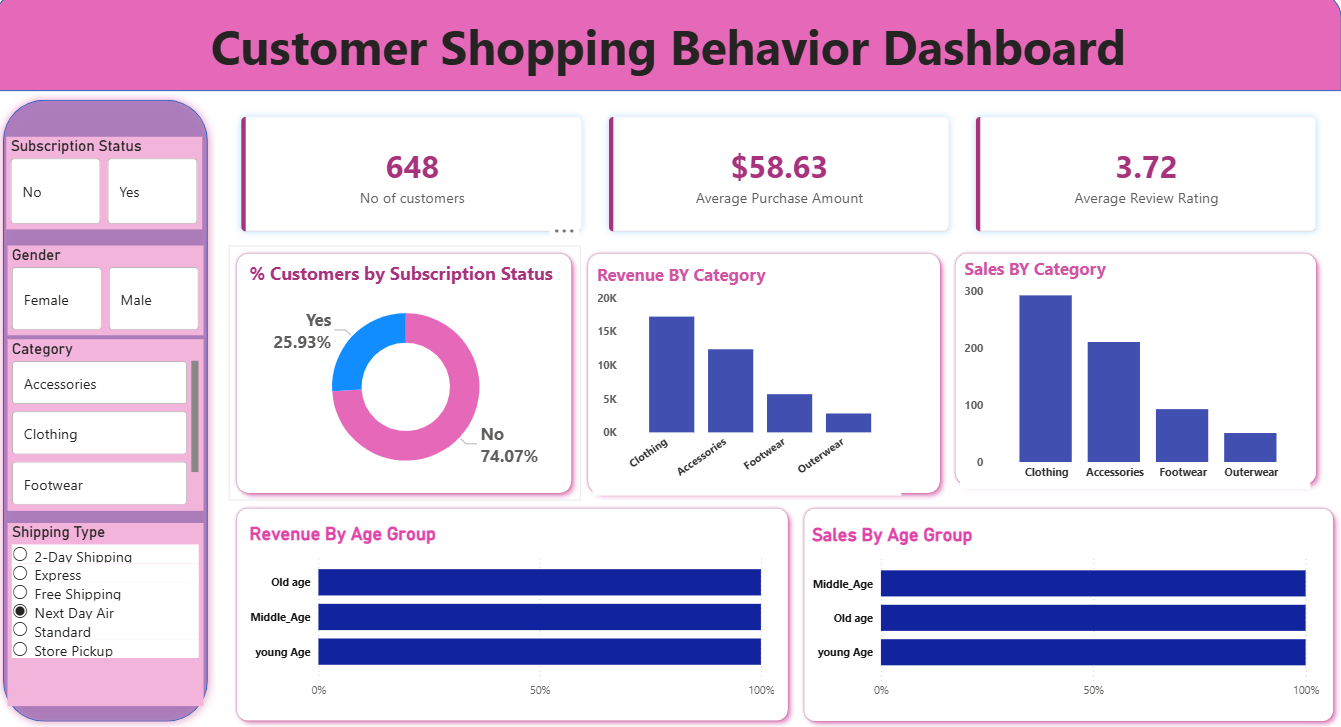

What the dashboard file says about the page in this screenshot:
{"tool":"powerbi","page":{"name":"Page 1","canvas":[1500,820],"ordinal":0},"visuals":[{"type":"cardVisual","fields":{"Data":["Sheet1.No of customers","Sheet1.Average Purchase Amount","Sheet1.Average Review Rating"]},"box":[246,109.3,1254.3,184.9],"z":0},{"type":"shape","box":[0,0,1500.3,109.3],"z":1000},{"type":"textbox","box":[0,17.7,1500.3,91.7],"z":2000},{"type":"shape","box":[260.5,281.4,390.8,284.6],"z":3000},{"type":"donutChart","title":"% Customers by Subscription Status","fields":{"Category":["Sheet1.Subscription Status"],"Y":["CountNonNull(Sheet1.Customer ID)"]},"box":[278.2,297.5,358.6,255.7],"z":4000},{"type":"shape","box":[651.3,281.4,410.1,284.6],"z":5000},{"type":"shape","box":[1061.3,281.4,419.7,275],"z":6000},{"type":"lineClusteredColumnComboChart","title":"Revenue BY Category","fields":{"Category":["Sheet1.Category"],"Y":["Sum(Sheet1.Purchase Amount (USD))"]},"box":[665.7,300.7,344.1,258.9],"z":7000},{"type":"lineClusteredColumnComboChart","title":"Sales BY Category","fields":{"Category":["Sheet1.Category"],"Y":["CountNonNull(Sheet1.Customer ID)"]},"box":[1075.8,294.3,390.8,258.9],"z":8000},{"type":"shape","box":[0,109.3,246,710.8],"z":9000},{"type":"advancedSlicerVisual","fields":{"Values":["Sheet1.Subscription Status"]},"box":[12.5,160.2,218.6,103.1],"z":9001},{"type":"advancedSlicerVisual","fields":{"Values":["Sheet1.Gender"]},"box":[14.5,281.4,218.7,99.7],"z":9002},{"type":"advancedSlicerVisual","fields":{"Values":["Sheet1.Category"]},"box":[14.5,385.9,218.7,191.4],"z":9003},{"type":"listSlicer","fields":{"Values":["Sheet1.Shipping Type"]},"box":[14.5,590.2,218.7,204.2],"z":9004},{"type":"shape","box":[260.5,566,632,254.1],"z":9006},{"type":"hundredPercentStackedBarChart","title":"Revenue By Age Group","fields":{"Y":["Sum(Sheet1.Purchase Amount (USD))"],"Category":["Sheet1.Age range"]},"box":[278.2,590.2,595,204.2],"z":9007},{"type":"shape","box":[892.7,565.4,607.2,254.9],"z":9009},{"type":"hundredPercentStackedBarChart","title":"Sales By Age Group","fields":{"Y":["CountNonNull(Sheet1.Customer ID)"],"Category":["Sheet1.Age range"]},"box":[905.2,591.9,575.2,203.3],"z":9010}]}

Visuals, with their boxes in screenshot pixels (x1, y1, x2, y2), scaled from the page's 1500x820 canvas onto the 1341x727 screenshot:
cardVisual - Sheet1.No of customers x Sheet1.Average Purchase Amount: {"x1": 220, "y1": 97, "x2": 1340, "y2": 261}
shape: {"x1": 0, "y1": 0, "x2": 1340, "y2": 97}
textbox: {"x1": 0, "y1": 16, "x2": 1340, "y2": 97}
shape: {"x1": 233, "y1": 249, "x2": 582, "y2": 502}
"% Customers by Subscription Status" donutChart: {"x1": 249, "y1": 264, "x2": 569, "y2": 490}
shape: {"x1": 582, "y1": 249, "x2": 949, "y2": 502}
shape: {"x1": 949, "y1": 249, "x2": 1324, "y2": 493}
"Revenue BY Category" lineClusteredColumnComboChart: {"x1": 595, "y1": 267, "x2": 903, "y2": 496}
"Sales BY Category" lineClusteredColumnComboChart: {"x1": 962, "y1": 261, "x2": 1311, "y2": 490}
shape: {"x1": 0, "y1": 97, "x2": 220, "y2": 726}
advancedSlicerVisual - Sheet1.Subscription Status: {"x1": 11, "y1": 142, "x2": 207, "y2": 233}
advancedSlicerVisual - Sheet1.Gender: {"x1": 13, "y1": 249, "x2": 208, "y2": 338}
advancedSlicerVisual - Sheet1.Category: {"x1": 13, "y1": 342, "x2": 208, "y2": 512}
listSlicer - Sheet1.Shipping Type: {"x1": 13, "y1": 523, "x2": 208, "y2": 704}
shape: {"x1": 233, "y1": 502, "x2": 798, "y2": 726}
"Revenue By Age Group" hundredPercentStackedBarChart: {"x1": 249, "y1": 523, "x2": 781, "y2": 704}
shape: {"x1": 798, "y1": 501, "x2": 1340, "y2": 726}
"Sales By Age Group" hundredPercentStackedBarChart: {"x1": 809, "y1": 525, "x2": 1323, "y2": 705}
